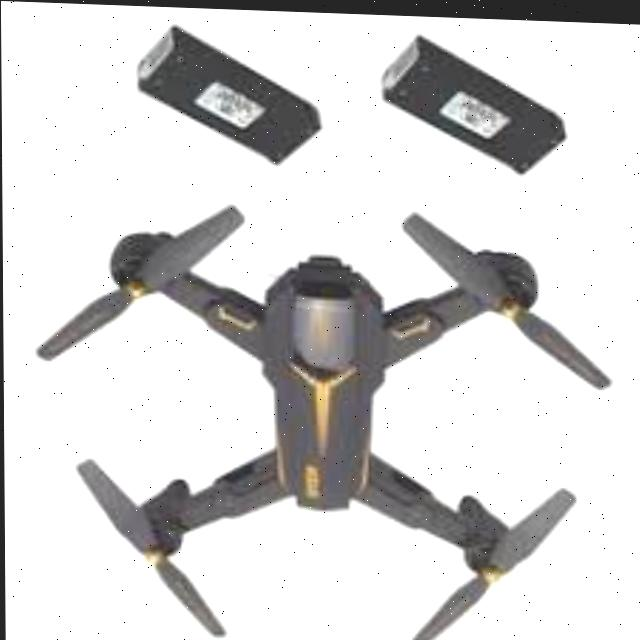drone: (34, 179, 615, 640)
